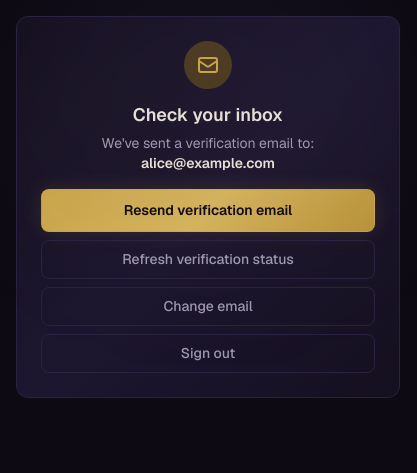
it: VerifyEmailPage › resends the verification email
The image size is (417, 473).
Click the button "Resend verification email" at (208, 210), box top-left (41, 189), bottom-right (375, 232)
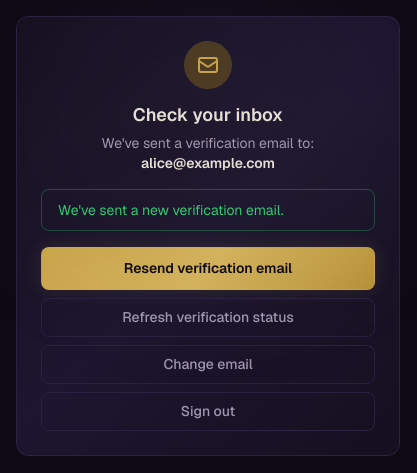
Check: the text "We've sent a new verification email." is shown, box top-left (41, 189), bottom-right (375, 231)
